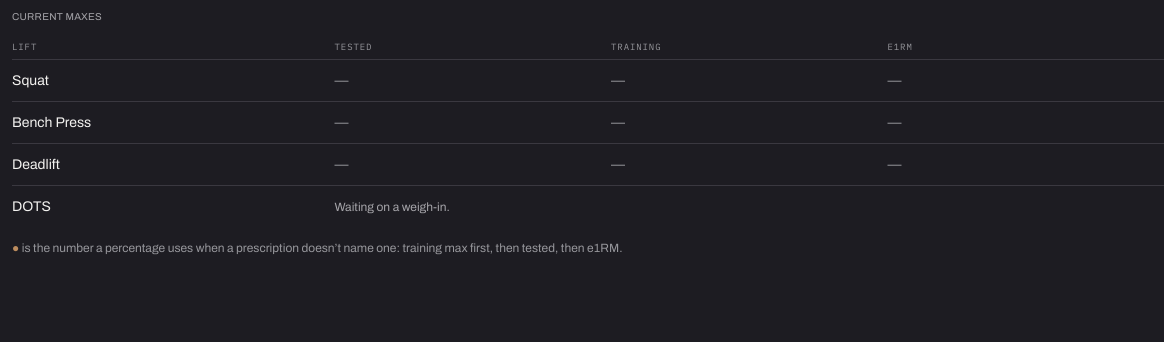
Scenario: setting a max inline › shows the server's reason when it refuses
Click the button named "Set tested for Squat": (342, 80) x1=330 y1=66 x2=352 y2=95
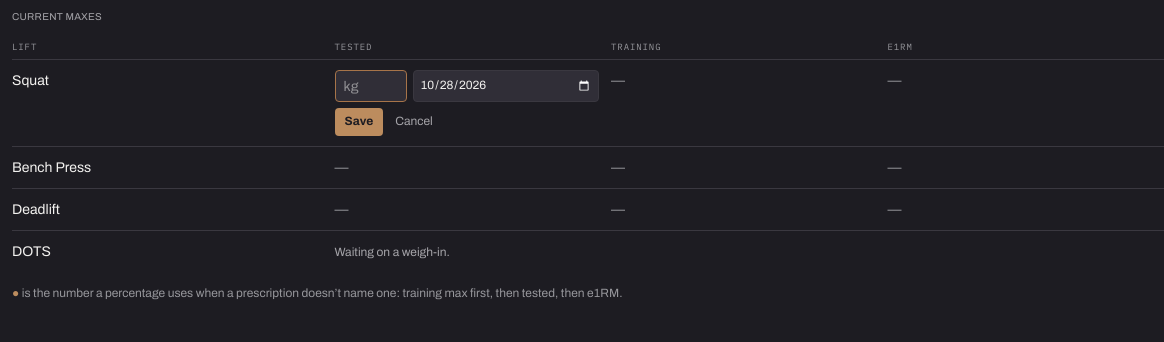
In the field named "tested for Squat, kg": (370, 86) x1=334 y1=70 x2=406 y2=102, type "6000"
Then press Enter
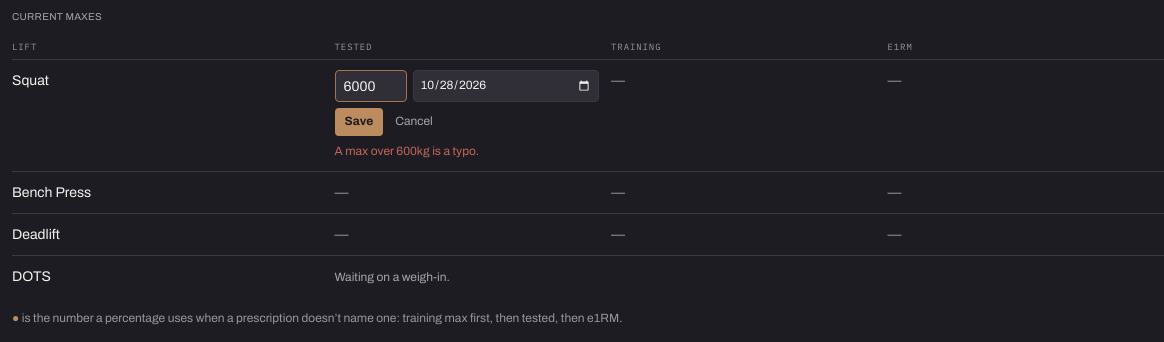
Result: the message reads "A max over 600kg is a typo." at x1=334 y1=144 x2=479 y2=158
